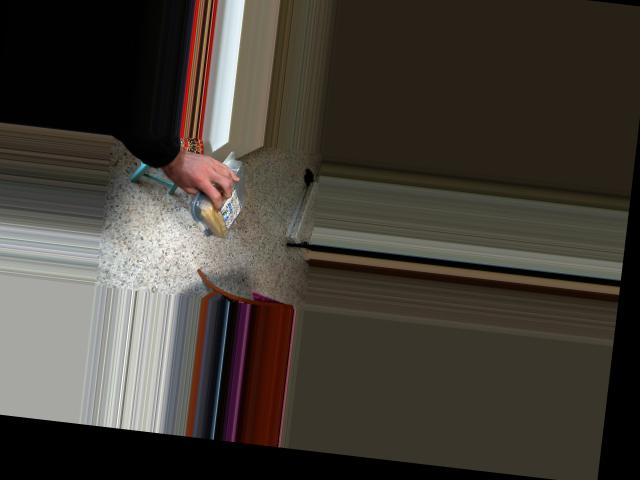cheese: (196, 149, 249, 240)
